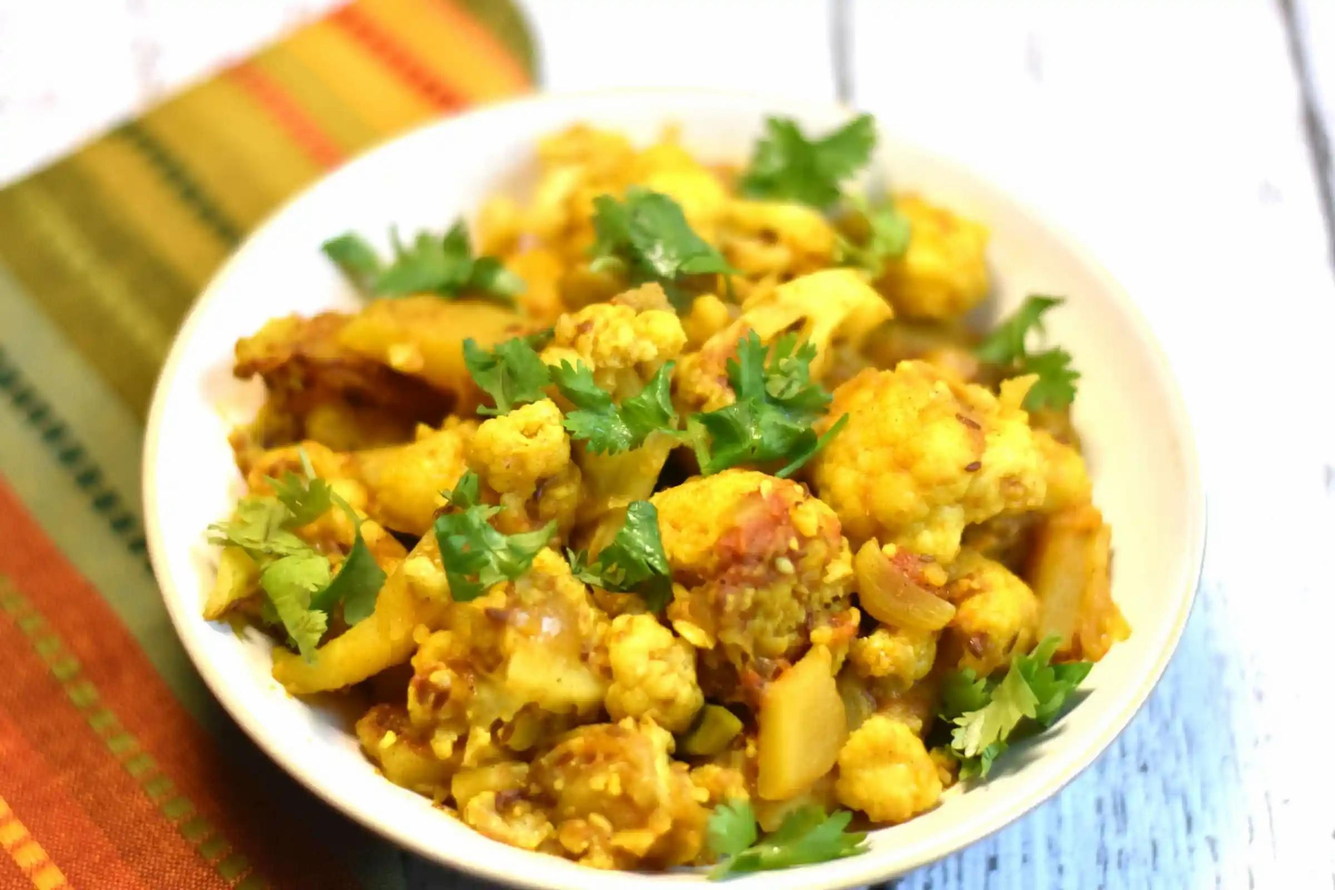AlooGobi: (203, 115, 1128, 867)
